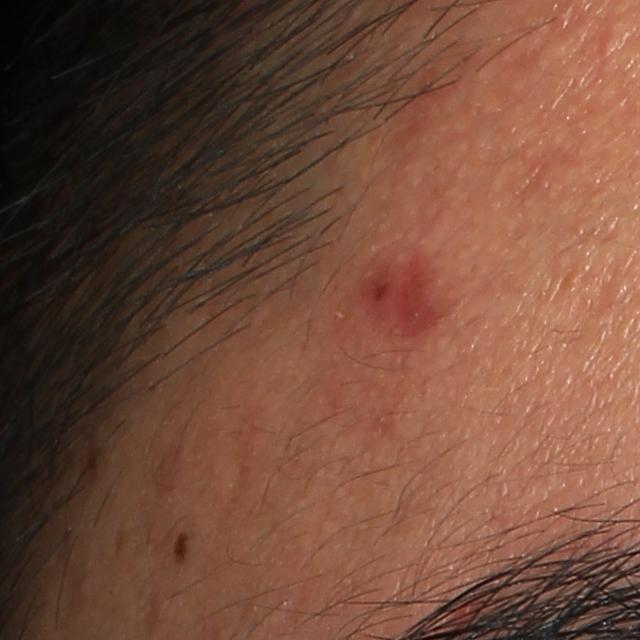nevus: (168, 521, 190, 562)
